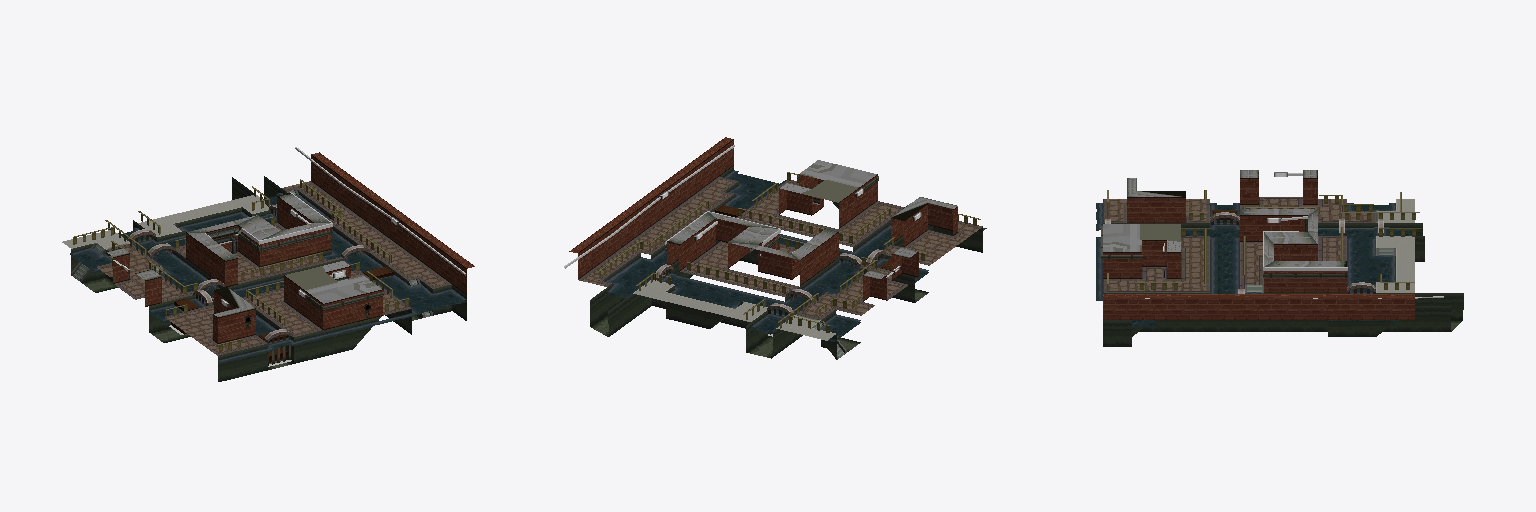
3 views of the same model, side by side, from view 1: azimuth 30°, elevation 25°; view 2: azimuth 150°, elevation 25°; view 3: azimuth 270°, elevation 25° (orthographic).
Visible parts, largest first — view 1: polygon6, polygon8, polygon9, polygon5, polygon4, polygon2, polygon7, polygon0, polygon10, polygon26, polygon24, polygon15 (+3 smaller); view 2: polygon6, polygon9, polygon8, polygon5, polygon4, polygon7, polygon0, polygon2, polygon26, polygon10, polygon13, polygon15 (+1 smaller); view 3: polygon6, polygon8, polygon5, polygon9, polygon4, polygon2, polygon7, polygon0, polygon26, polygon10, polygon24, polygon15 (+1 smaller).
Part boxes in pixels (x1,y1,x2,y2): polygon6: (113, 152, 474, 343); polygon8: (71, 176, 466, 381); polygon9: (98, 182, 444, 353); polygon5: (107, 193, 381, 316); polygon4: (70, 196, 466, 347); polygon2: (71, 193, 466, 362); polygon7: (97, 181, 451, 355); polygon0: (73, 179, 408, 351); polygon10: (128, 204, 369, 365); polygon26: (62, 195, 267, 247); polygon24: (207, 227, 383, 310); polygon15: (113, 147, 465, 276); polygon6: (569, 137, 957, 301); polygon9: (583, 179, 980, 317); polygon8: (590, 166, 982, 359); polygon5: (667, 160, 957, 279); polygon4: (608, 173, 928, 341); polygon7: (578, 177, 982, 319); polygon0: (598, 172, 980, 332); polygon2: (606, 170, 986, 337); polygon26: (637, 282, 833, 340); polygon10: (656, 203, 910, 334); polygon13: (590, 289, 928, 358); polygon15: (564, 145, 893, 277); polygon6: (1103, 178, 1414, 319); polygon8: (1103, 223, 1463, 346); polygon5: (1103, 170, 1346, 266); polygon9: (1108, 199, 1371, 290); polygon4: (1132, 205, 1411, 326); polygon2: (1096, 203, 1411, 300); polygon7: (1103, 197, 1375, 292); polygon0: (1107, 190, 1421, 289); polygon26: (1381, 199, 1414, 290); polygon10: (1105, 212, 1383, 293); polygon24: (1101, 219, 1347, 277); polygon15: (1145, 173, 1443, 298).
Size of the model in its own units: 7.75 by 1.75 by 9.44.
28 materials, 26 textured.